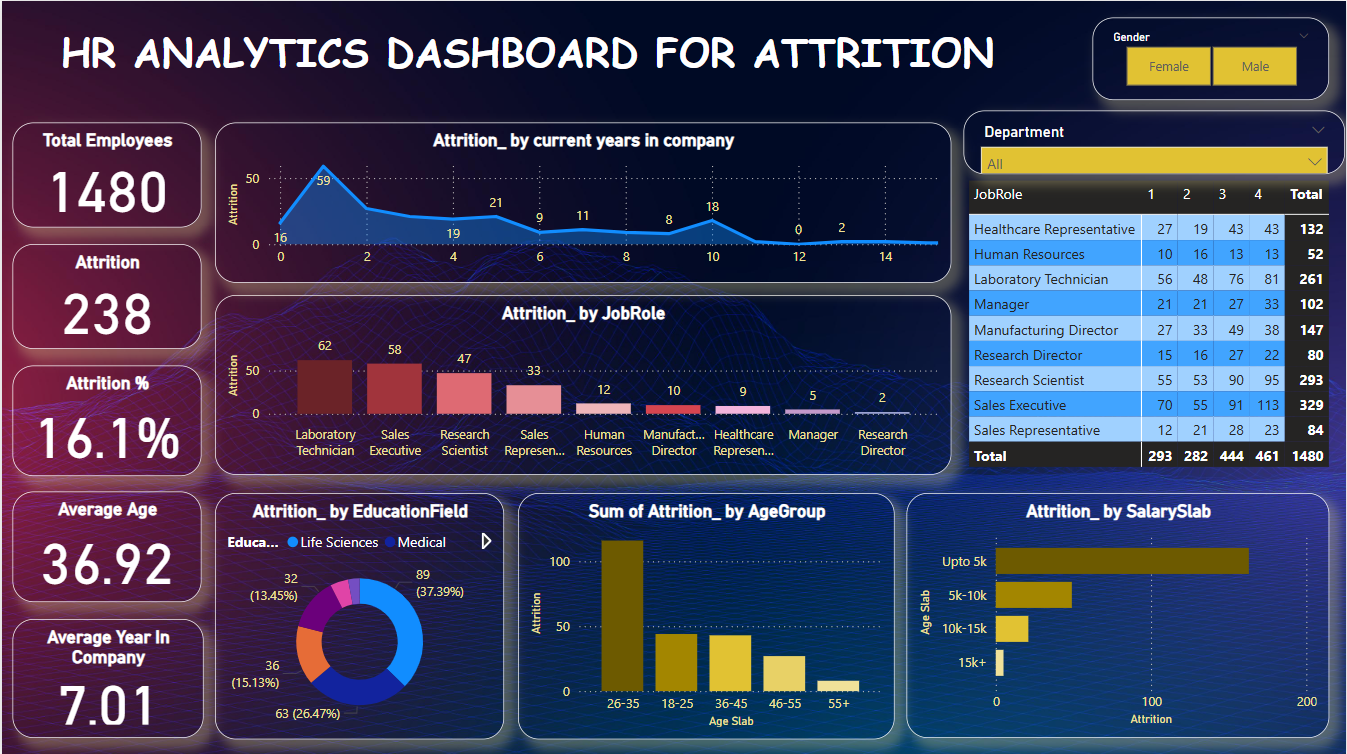

The page's visual inventory and layout, read from the dashboard file:
{"tool":"powerbi","page":{"name":"Page 1","canvas":[1280,720],"ordinal":0},"visuals":[{"type":"card","title":"Total Employees","fields":{"Values":["Sum(HR_Analytics.EmployeeCount)"]},"box":[10,115,180,100],"z":0},{"type":"card","title":"Attrition","fields":{"Values":["Sum(HR_Analytics.Attrition_)"]},"box":[10,230.8,180,100],"z":1000},{"type":"card","title":"Attrition %","fields":{"Values":["HR_Analytics.Attrition Percentage"]},"box":[10,346.7,180,105],"z":2000},{"type":"card","title":"Average Age","fields":{"Values":["Avg(HR_Analytics.Age)"]},"box":[10,467.5,180,105],"z":3000},{"type":"card","title":"Average Year In Company","fields":{"Values":["Avg(HR_Analytics.YearsAtCompany)"]},"box":[10,588.3,181.7,113],"z":4000},{"type":"donutChart","title":" Attrition_ by EducationField","fields":{"Y":["Sum(HR_Analytics.Attrition_)"],"Category":["HR_Analytics.EducationField"]},"box":[202.9,467.9,275.6,234.7],"z":5000},{"type":"columnChart","fields":{"Category":["HR_Analytics.AgeGroup"],"Y":["Sum(HR_Analytics.Attrition_)"]},"box":[492.1,467.9,358.9,234.7],"z":6000},{"type":"barChart","title":" Attrition_ by SalarySlab","fields":{"Y":["Sum(HR_Analytics.Attrition_)"],"Category":["HR_Analytics.SalarySlab"]},"box":[861.6,467.9,402.8,233.2],"z":7000},{"type":"columnChart","title":" Attrition_ by JobRole","fields":{"Y":["Sum(HR_Analytics.Attrition_)"],"Category":["HR_Analytics.JobRole"]},"box":[202.9,280.1,701.1,171.1],"z":8000},{"type":"areaChart","title":" Attrition_ by current years in company","fields":{"Y":["Sum(HR_Analytics.Attrition_)"],"Category":["HR_Analytics.YearsAtCompany"]},"box":[202.9,115.1,701.1,152.9],"z":9000},{"type":"pivotTable","fields":{"Rows":["HR_Analytics.JobRole"],"Values":["Sum(HR_Analytics.EmployeeCount)"],"Columns":["HR_Analytics.JobSatisfaction"]},"box":[916.1,165,363.4,286.2],"z":10000},{"type":"slicer","fields":{"Values":["HR_Analytics.Gender"]},"box":[1038.7,15.1,225.6,78.7],"z":11000},{"type":"slicer","fields":{"Values":["HR_Analytics.Department"]},"box":[916.1,104.5,363.4,60.6],"z":12000},{"type":"textbox","box":[0,15.1,1000.9,78.7],"z":13000}]}

Visuals, with their boxes in screenshot pixels (x1, y1, x2, y2), scaled from the page's 1280x720 canvas onto the 1347x754 screenshot:
"Total Employees" card: x1=11 y1=120 x2=200 y2=225
"Attrition" card: x1=11 y1=242 x2=200 y2=346
"Attrition %" card: x1=11 y1=363 x2=200 y2=473
"Average Age" card: x1=11 y1=490 x2=200 y2=600
"Average Year In Company" card: x1=11 y1=616 x2=202 y2=734
" Attrition_ by EducationField" donutChart: x1=214 y1=490 x2=504 y2=736
columnChart - HR_Analytics.AgeGroup x Sum(HR_Analytics.Attrition_): x1=518 y1=490 x2=896 y2=736
" Attrition_ by SalarySlab" barChart: x1=907 y1=490 x2=1331 y2=734
" Attrition_ by JobRole" columnChart: x1=214 y1=293 x2=951 y2=473
" Attrition_ by current years in company" areaChart: x1=214 y1=121 x2=951 y2=281
pivotTable - HR_Analytics.JobRole x Sum(HR_Analytics.EmployeeCount): x1=964 y1=173 x2=1346 y2=473
slicer - HR_Analytics.Gender: x1=1093 y1=16 x2=1330 y2=98
slicer - HR_Analytics.Department: x1=964 y1=109 x2=1346 y2=173
textbox: x1=0 y1=16 x2=1053 y2=98
